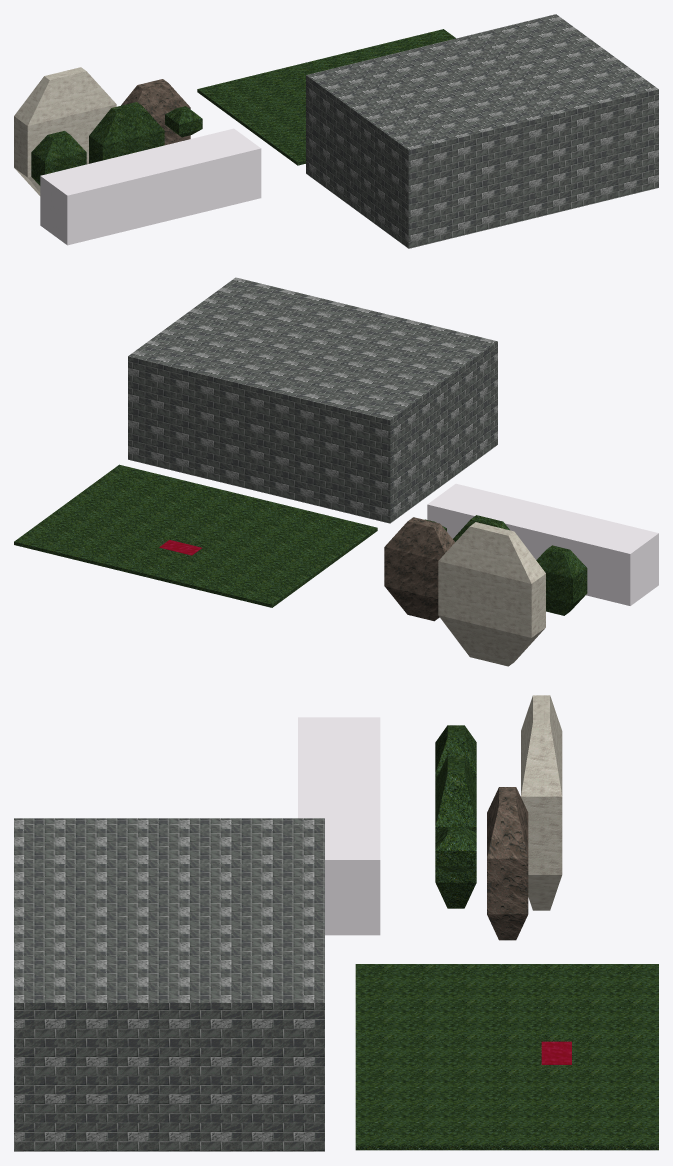
Rendered from Ziggy_brush.glb.
The picture shows the model from 3 angles, top to bottom: view 1: azimuth 30°, elevation 25°; view 2: azimuth 150°, elevation 25°; view 3: azimuth 270°, elevation 25°; orthographic projection. The views are drawn at different scales.
Visible parts, largest first — view 1: Ziggy; view 2: Ziggy; view 3: Ziggy.
Part boxes in pixels (x1,y1,x2,y2): Ziggy: [14, 14, 658, 248]; Ziggy: [14, 277, 658, 666]; Ziggy: [14, 695, 658, 1151].
Bounding box in the file's own units: 2681 × 692 × 1992.
Materials: 6 (6 with a texture image).
